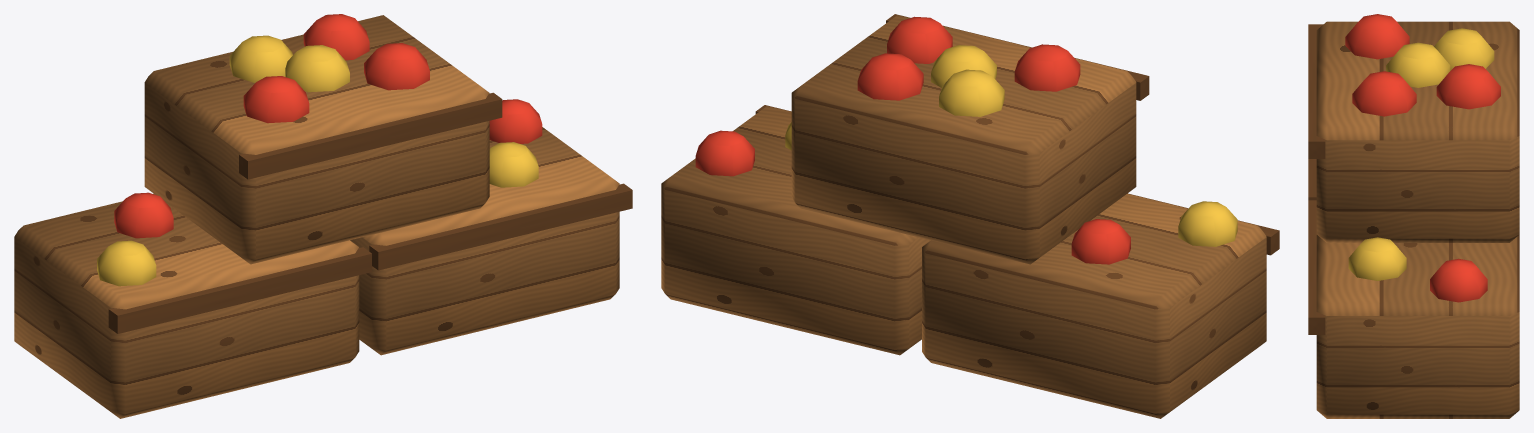
File: prop_apple_crates.glb
3 renders of one model, left to right at view 1: azimuth 30°, elevation 25°; view 2: azimuth 150°, elevation 25°; view 3: azimuth 270°, elevation 25°, orthographic. The views are drawn at different scales.
Visible parts, largest first — view 1: prop_apple_crates; view 2: prop_apple_crates; view 3: prop_apple_crates.
Part boxes in pixels (x1,y1,x2,y2): prop_apple_crates: [14, 14, 632, 418]; prop_apple_crates: [661, 14, 1279, 418]; prop_apple_crates: [1308, 14, 1519, 418].
Bounding box in the file's own units: 1.66 × 0.85 × 0.625.
Materials: 1 (1 with a texture image).
